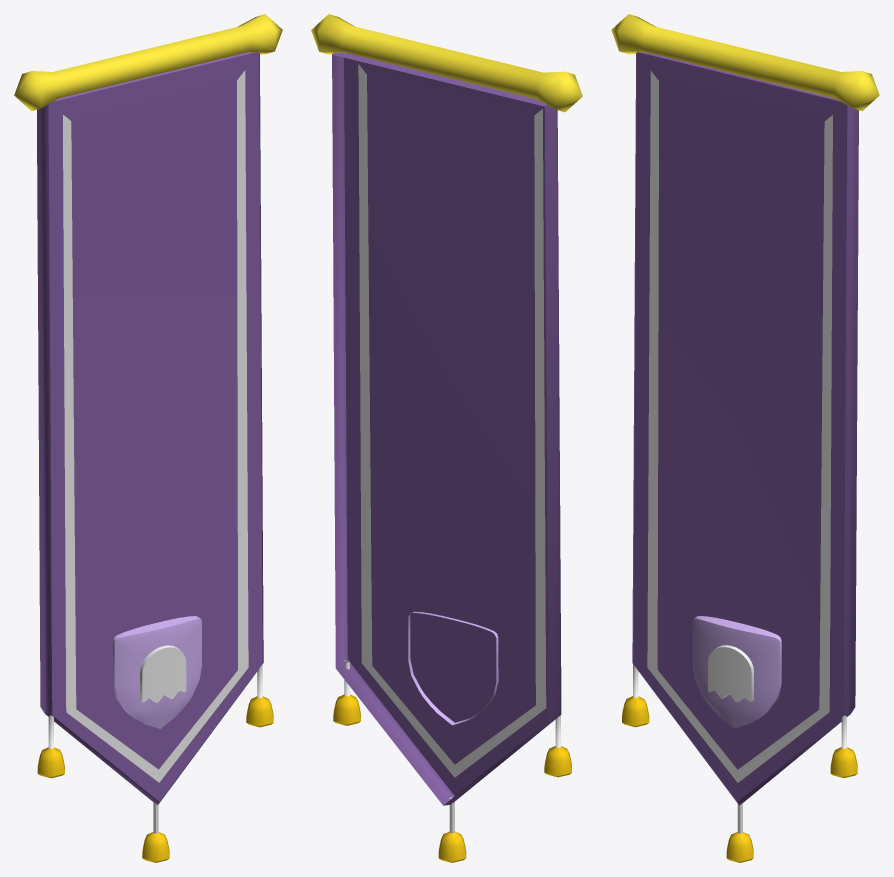
The model's file is BannerLong.fbx.
The picture shows the model from 3 angles, left to right: view 1: azimuth 30°, elevation 25°; view 2: azimuth 150°, elevation 25°; view 3: azimuth 330°, elevation 25°; orthographic projection.
Visible parts, largest first — view 1: BannerLong; view 2: BannerLong; view 3: BannerLong.
Boxes of the visible parts, left/top/right/bottom form: BannerLong: left=14, top=14, right=282, bottom=862; BannerLong: left=311, top=14, right=582, bottom=862; BannerLong: left=611, top=14, right=879, bottom=862.
Bounding box in the file's own units: 2774 × 7993 × 466.
